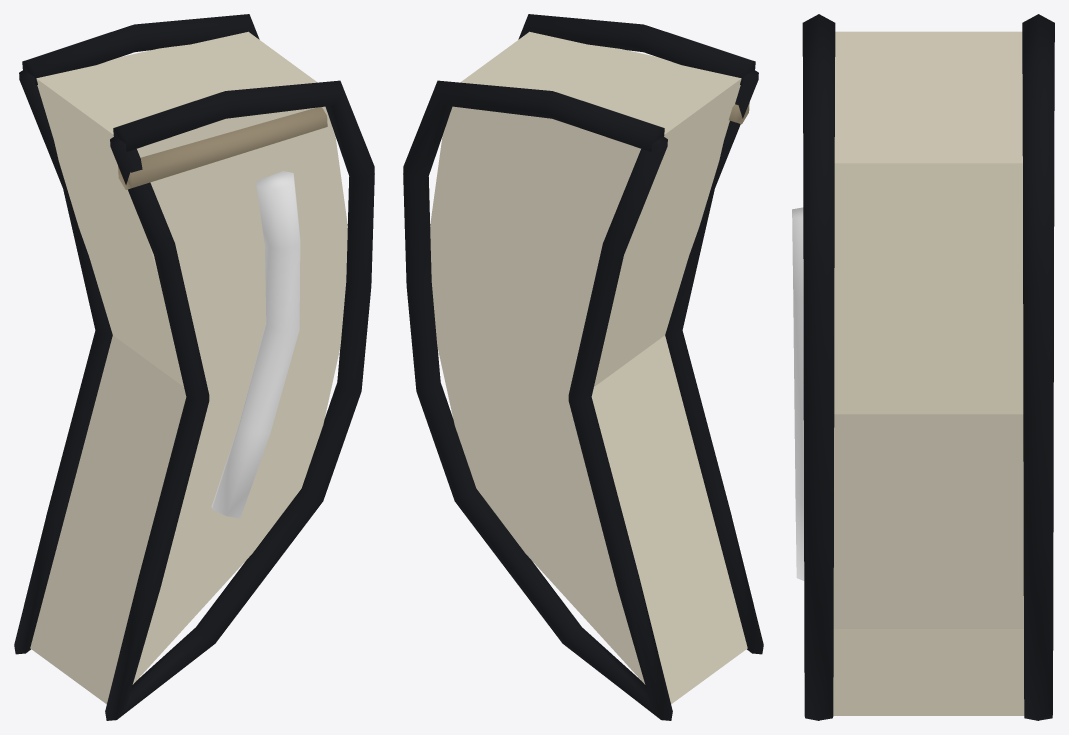
File: pierce.glb
The picture shows the model from 3 angles, left to right: view 1: azimuth 30°, elevation 25°; view 2: azimuth 150°, elevation 25°; view 3: azimuth 270°, elevation 25°; orthographic projection. The views are drawn at different scales.
Parts seen in each view (by area): view 1: pierce_Game; view 2: pierce_Game; view 3: pierce_Game.
Boxes of the visible parts, x1=… form: pierce_Game: x1=14, y1=14, x2=374, y2=720; pierce_Game: x1=403, y1=14, x2=763, y2=720; pierce_Game: x1=792, y1=14, x2=1054, y2=720.
Size of the model in its own units: 0.5175 by 1.11 by 0.3637.
